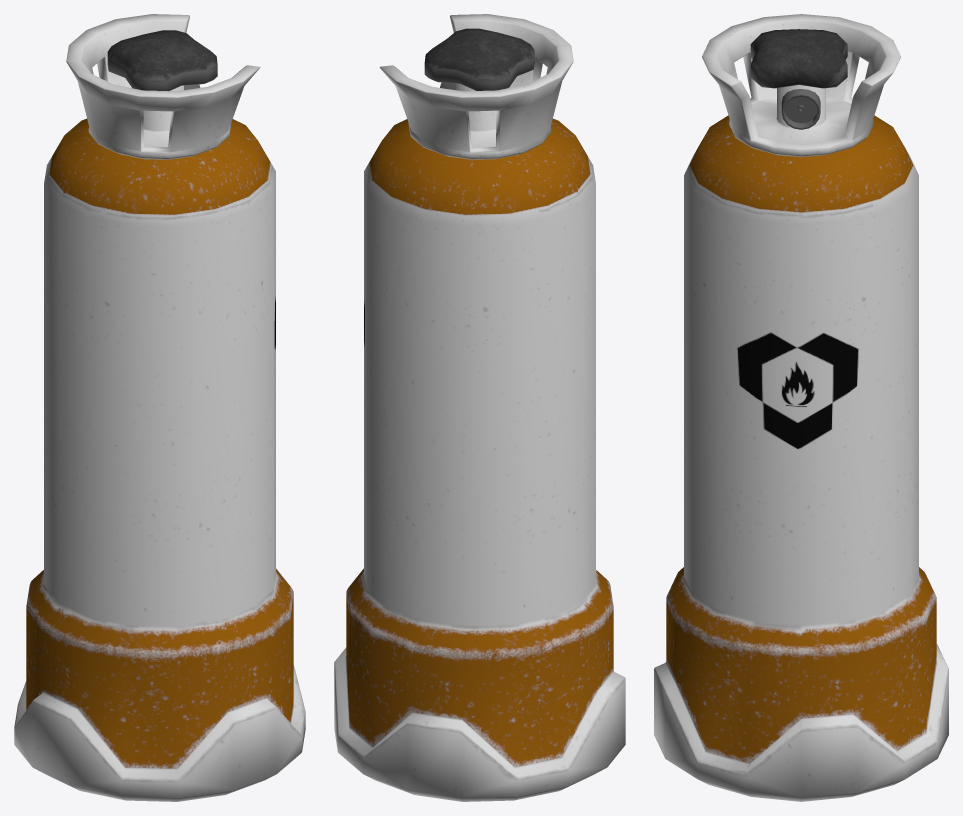
File: bottle.obj
The picture shows the model from 3 angles, left to right: view 1: azimuth 30°, elevation 25°; view 2: azimuth 150°, elevation 25°; view 3: azimuth 270°, elevation 25°; orthographic projection.
Visible parts, largest first — view 1: bouteille010; view 2: bouteille010; view 3: bouteille010.
Part boxes in pixels (x1,y1,x2,y2): bouteille010: [14, 14, 305, 801]; bouteille010: [334, 14, 625, 801]; bouteille010: [654, 14, 948, 801].
Bounding box in the file's own units: 0.2595 × 0.6916 × 0.2595.
1 material, 1 textured.
